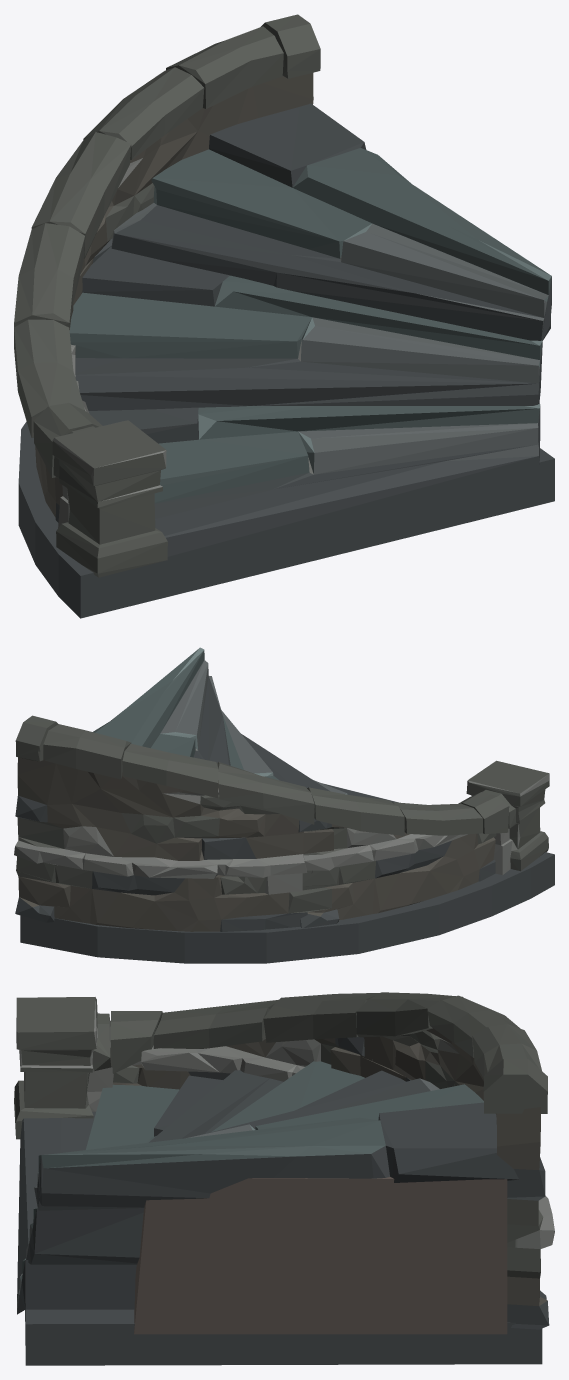
The model's file is MDungeons_Steps_Curved_90_02.FBX.
3 renders of one model, top to bottom at view 1: azimuth 30°, elevation 25°; view 2: azimuth 150°, elevation 25°; view 3: azimuth 270°, elevation 25°, orthographic. The views are drawn at different scales.
Parts seen in each view (by area): view 1: MDungeons_Steps_Curved_90_02_LOD0; view 2: MDungeons_Steps_Curved_90_02_LOD0; view 3: MDungeons_Steps_Curved_90_02_LOD0.
Boxes of the visible parts, x1,y1,x2,y2 form: MDungeons_Steps_Curved_90_02_LOD0: (14,14,554,618); MDungeons_Steps_Curved_90_02_LOD0: (14,647,554,963); MDungeons_Steps_Curved_90_02_LOD0: (14,992,554,1365).
Size of what is drawn, in the model's own units: 5.95 by 3.53 by 5.94.
